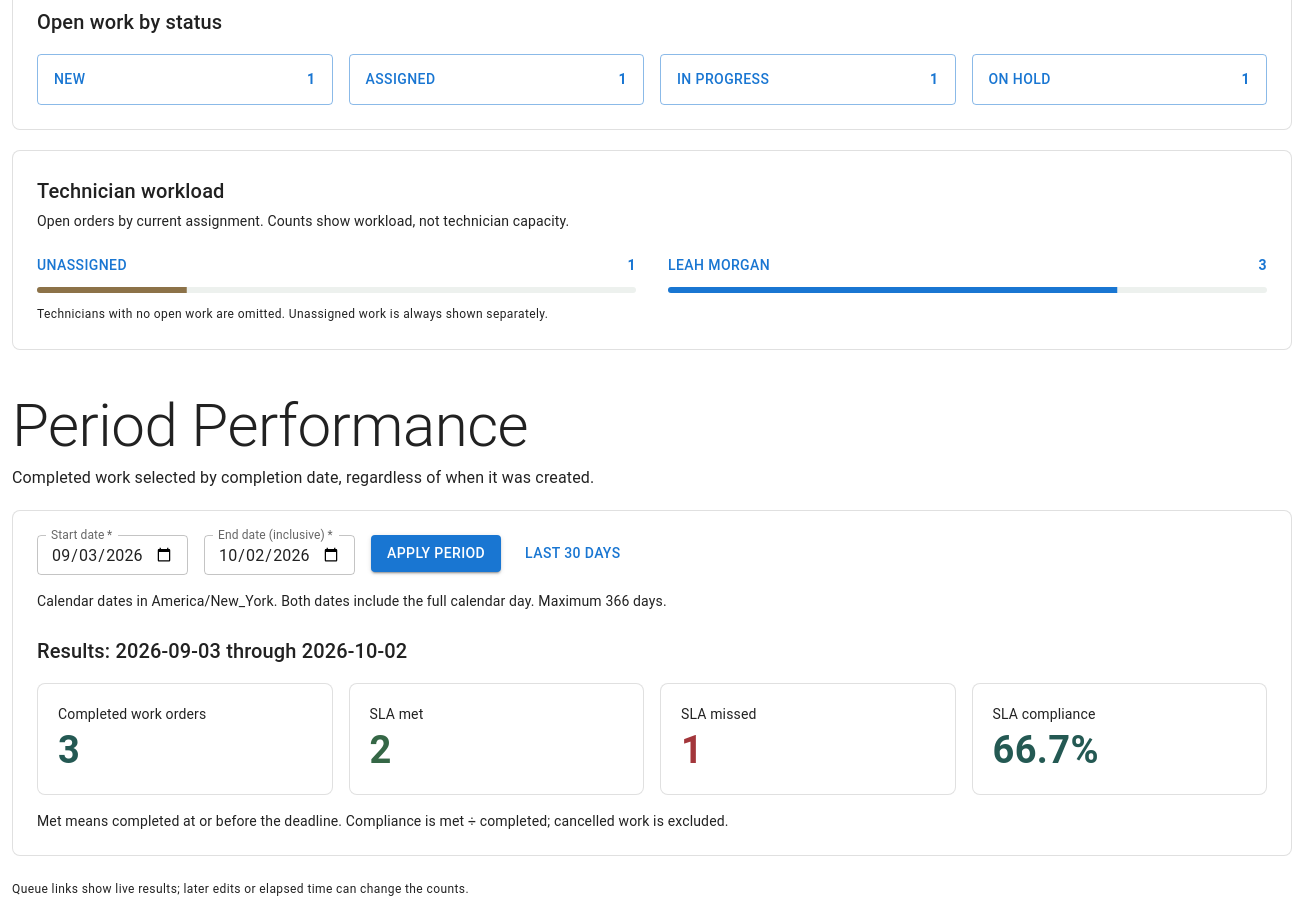
it: validates dates and sends an exclusive next-day boundary across a month end
(page scrolled)
Expected: the heading "Period Performance" is shown, [12, 390, 528, 461]
Type "2026-09-01" into the date field labelled "Start date" at (112, 555), box [37, 535, 188, 575]
Type "2026-08-31" into the date field labelled "End date (inclusive)" at (280, 555), box [204, 535, 355, 575]
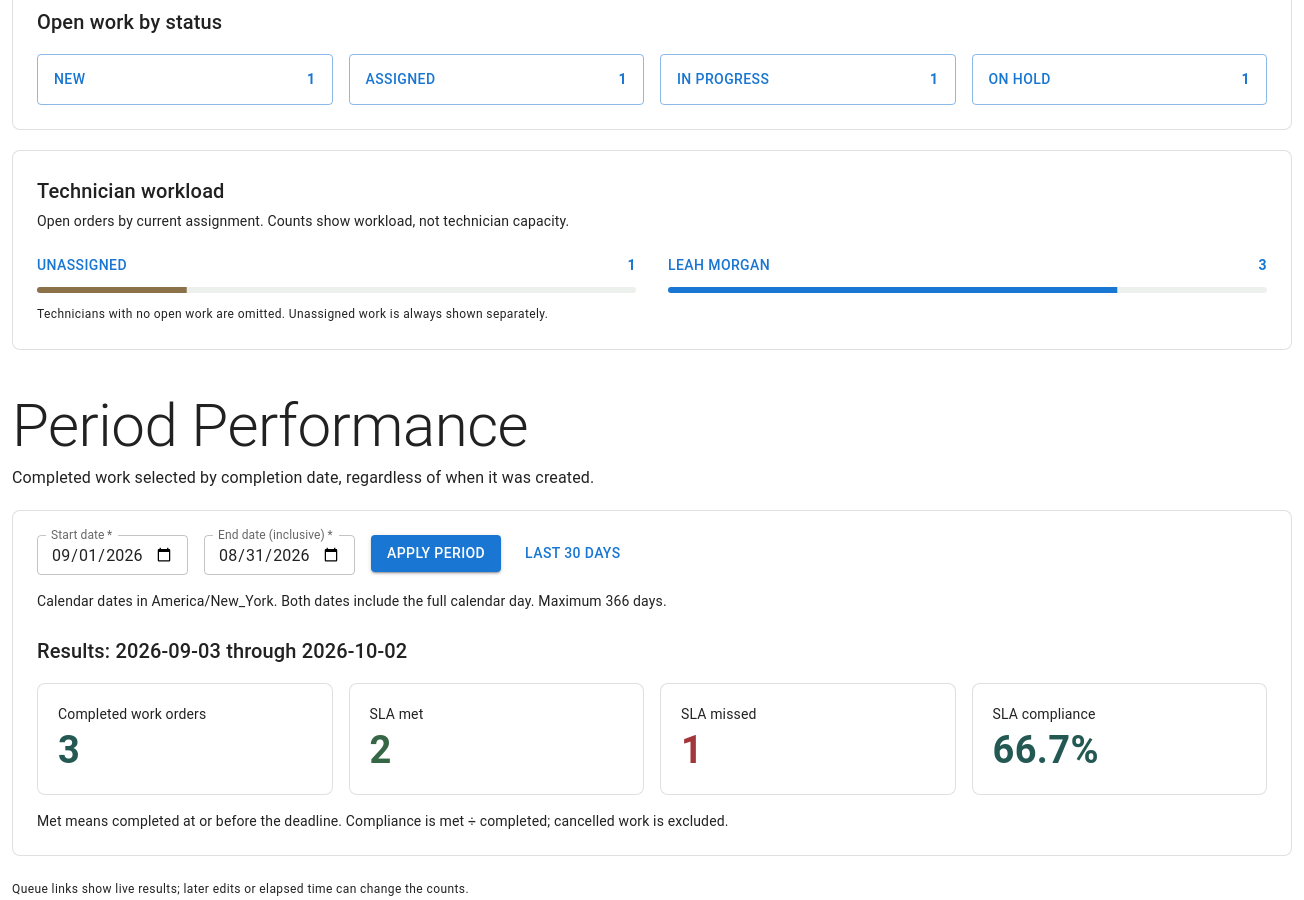
Submit the form named "Performance period", box [37, 528, 667, 609]
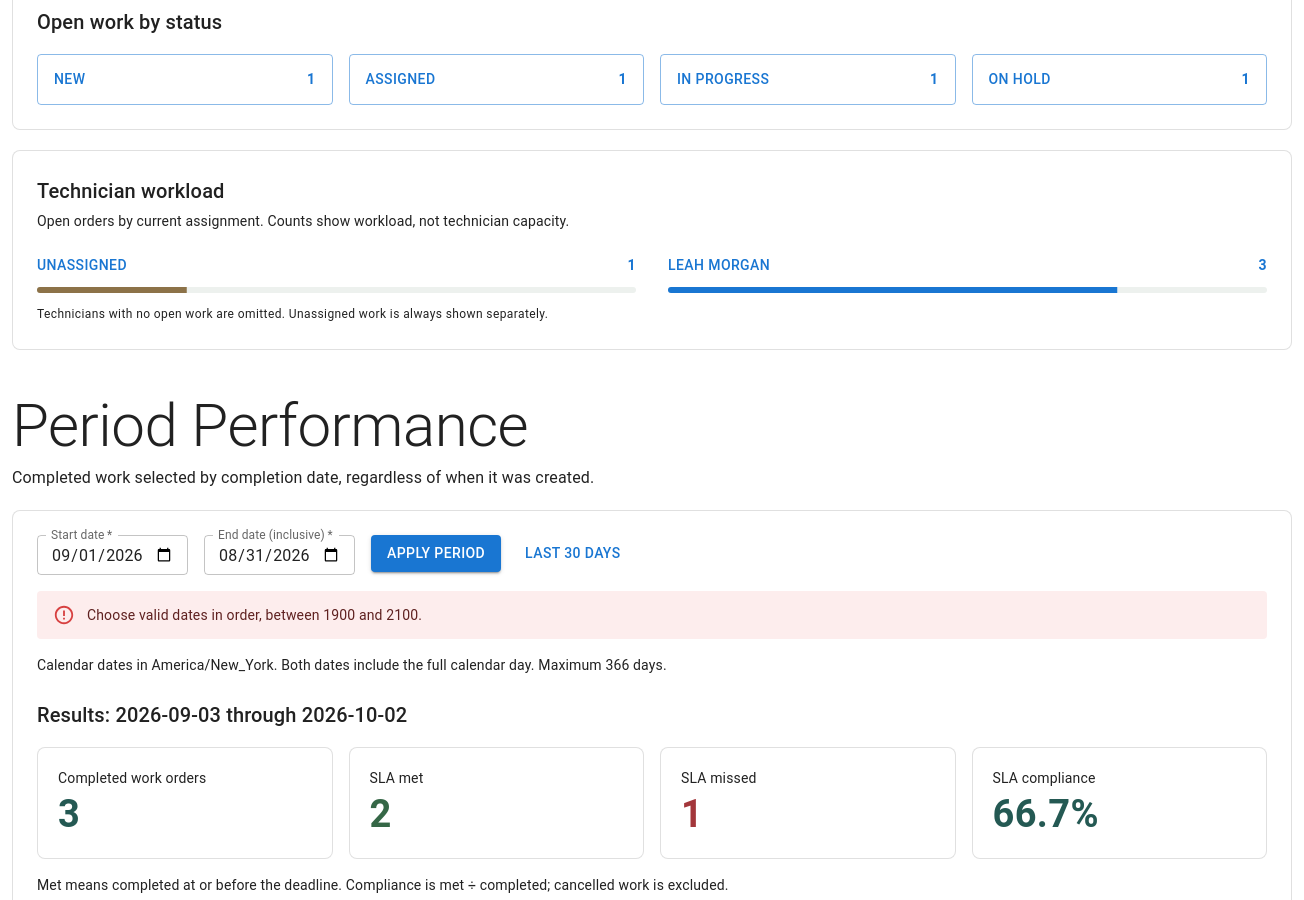
Now the message shows "Choose valid dates in order", box [87, 607, 422, 623]
Click the button "Last 30 days" at (573, 554), box [517, 535, 628, 572]
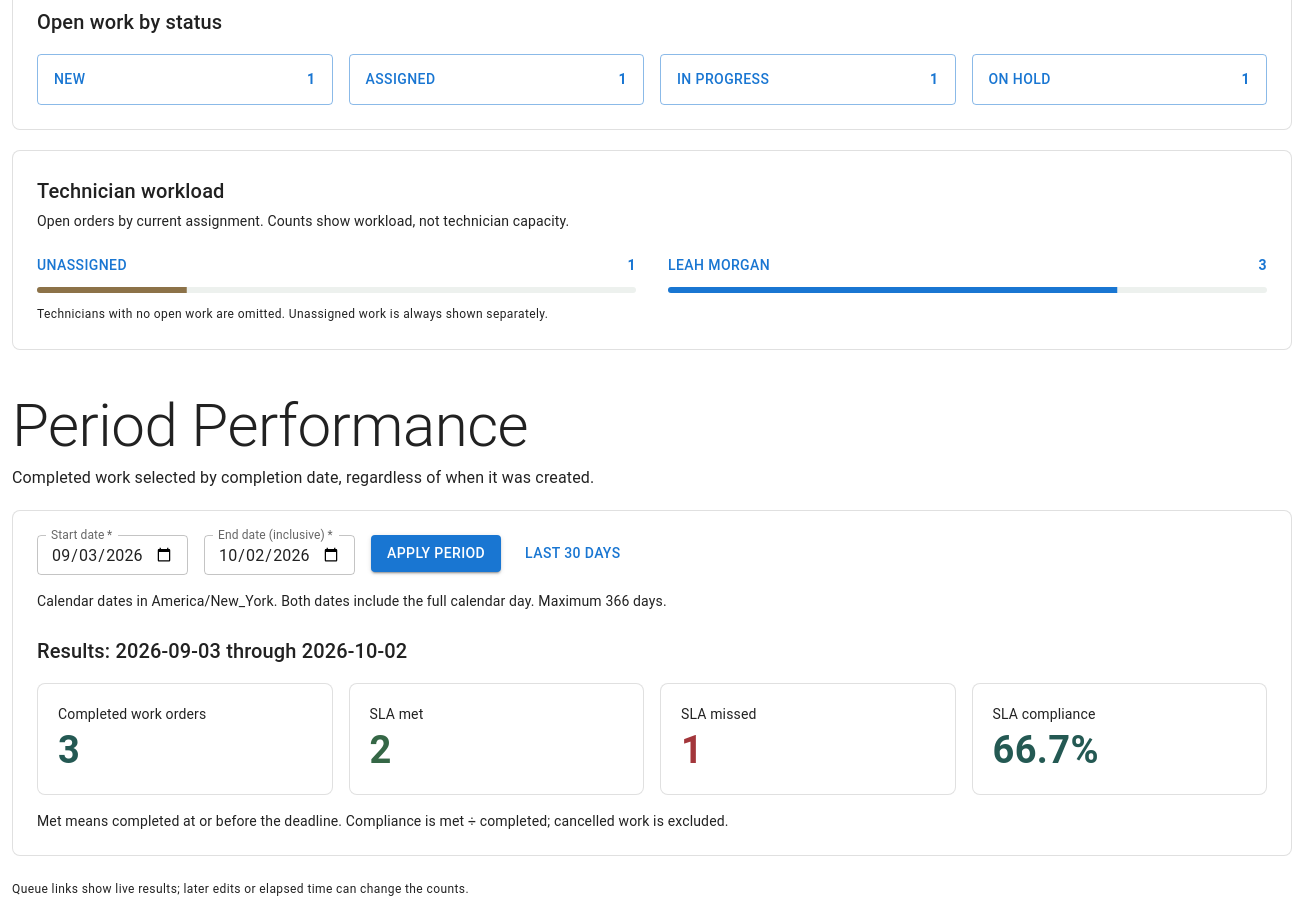
Now the date field labelled "End date (inclusive)" holds "2026-10-02", box [204, 535, 355, 575]
Now the message "Choose valid dates in order, between 1900 and 2100." is gone
Type "2026-09-01" into the date field labelled "Start date" at (112, 555), box [37, 535, 188, 575]
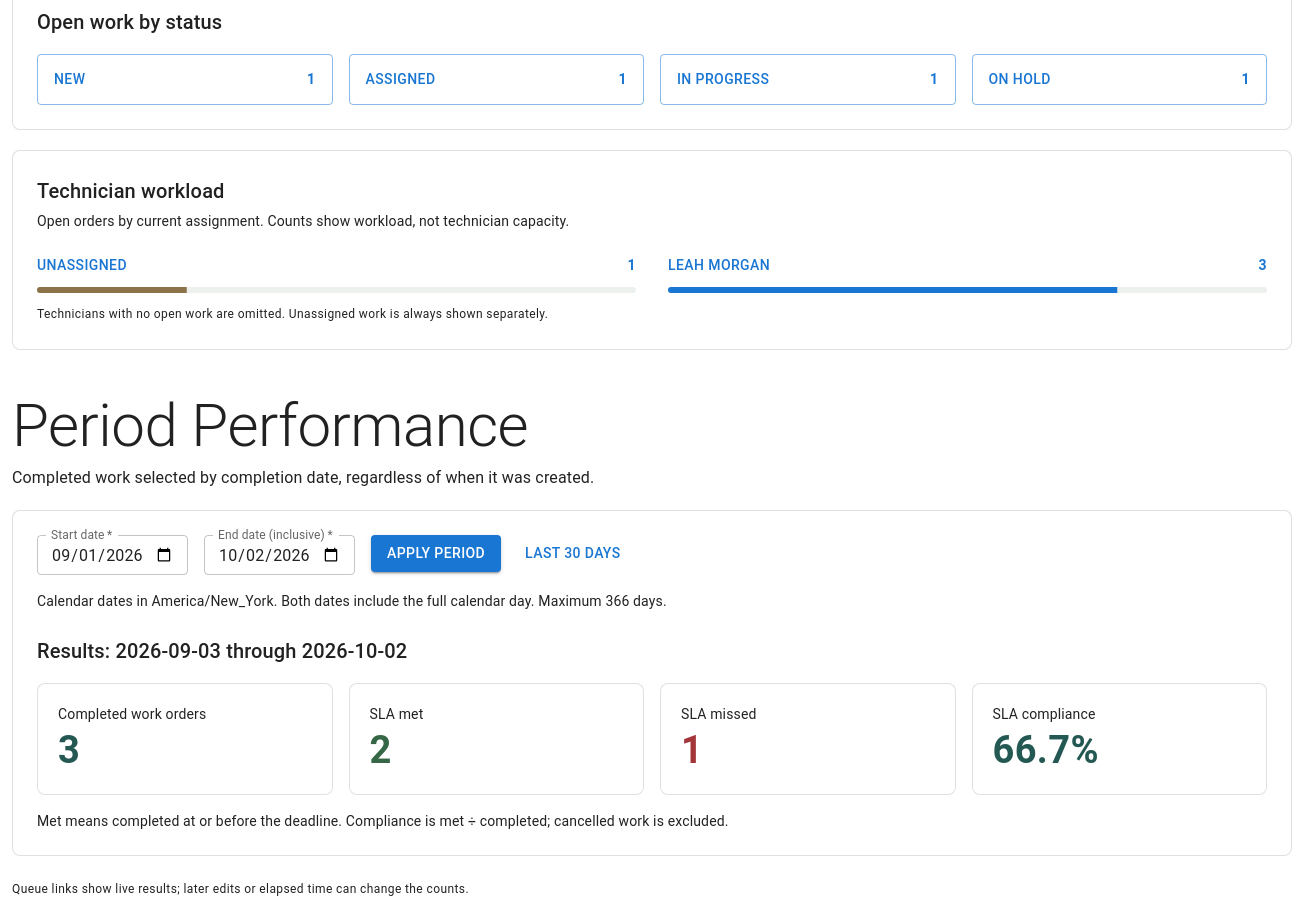
Type "2026-09-30" into the date field labelled "End date (inclusive)" at (280, 555), box [204, 535, 355, 575]
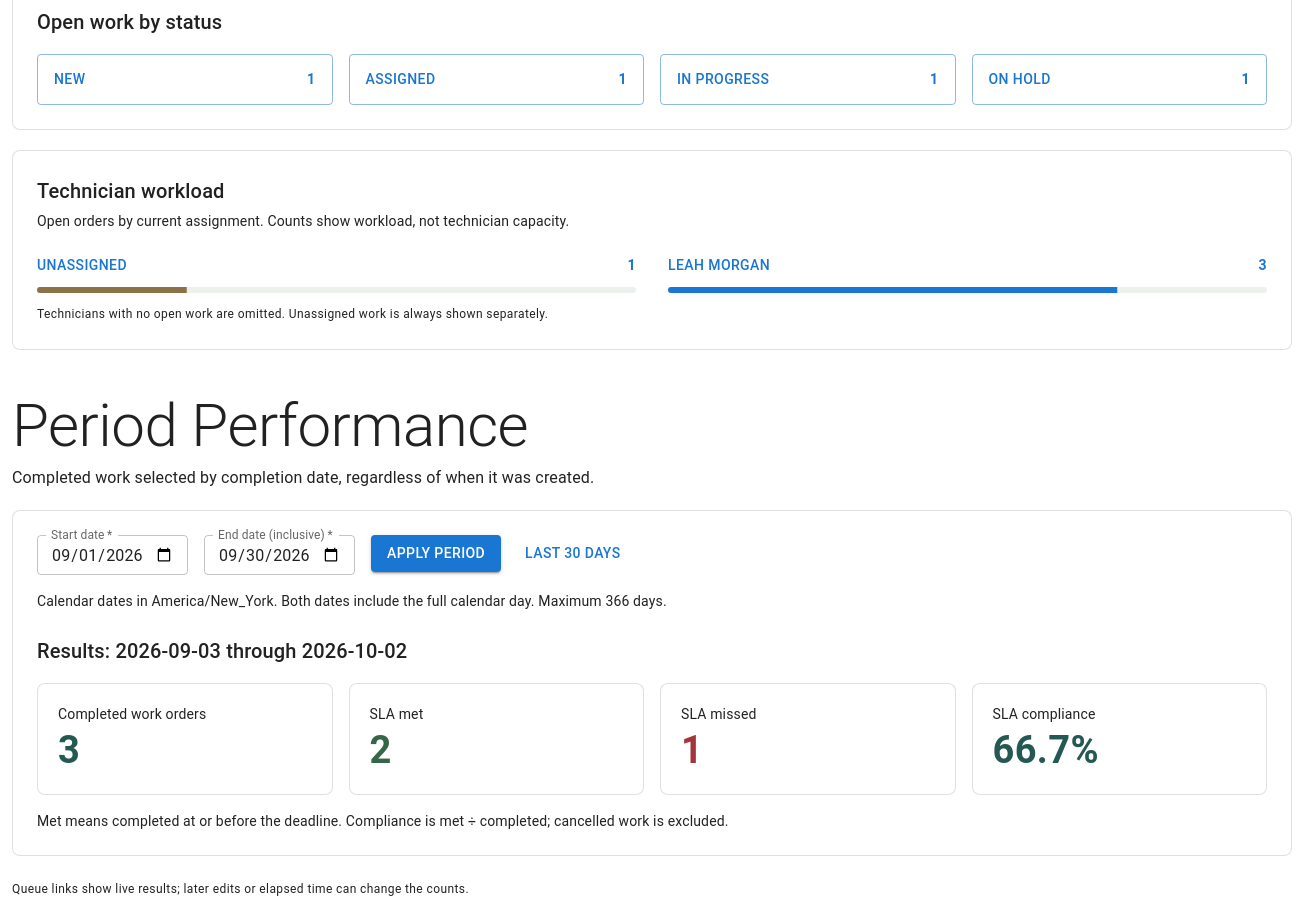
Submit the form named "Performance period", box [37, 528, 667, 609]
(page scrolled)
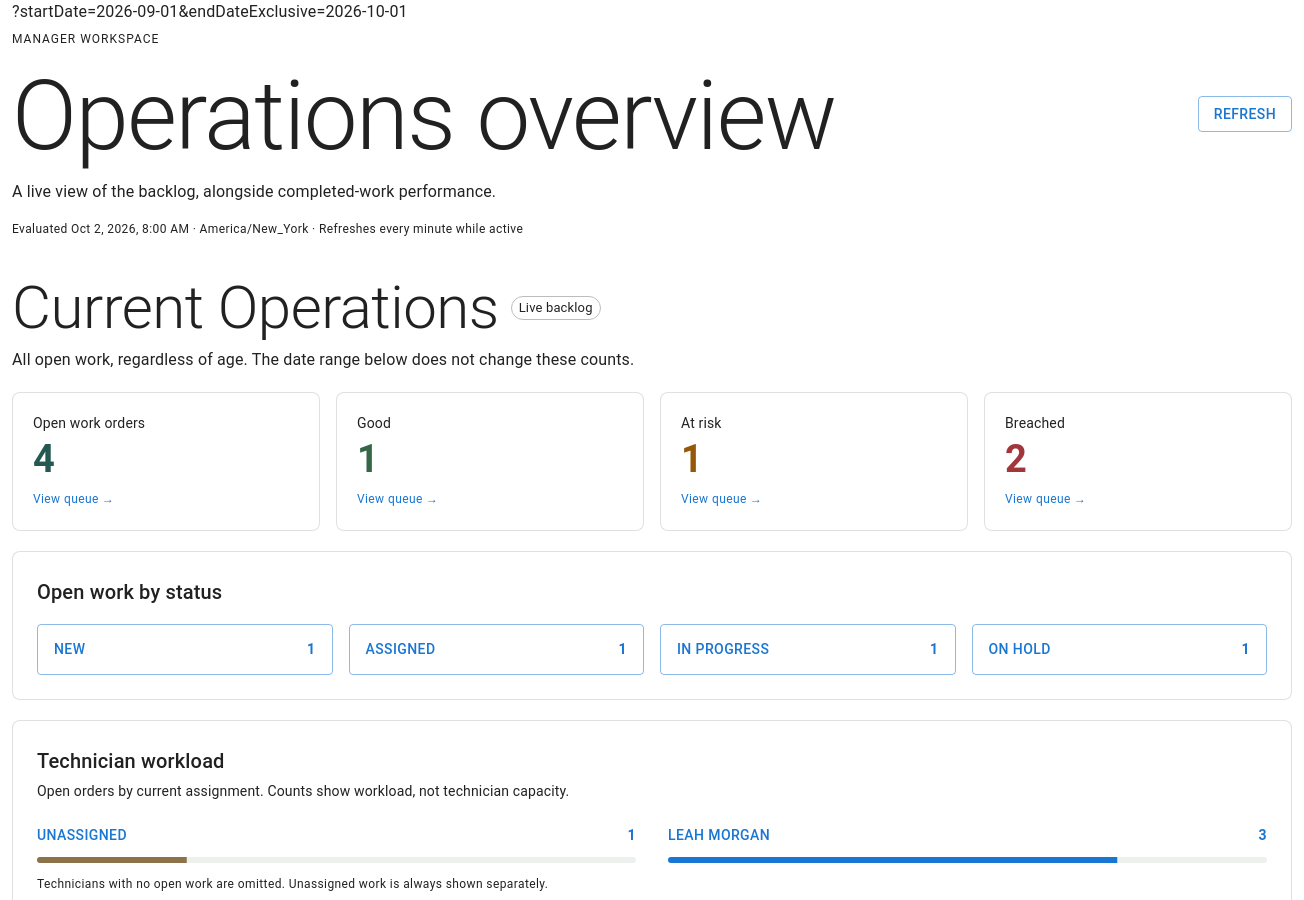
Now the text named "URL" reads "?startDate=2026-09-01&endDateExclusive=2026-10-01", box [12, 2, 408, 21]
